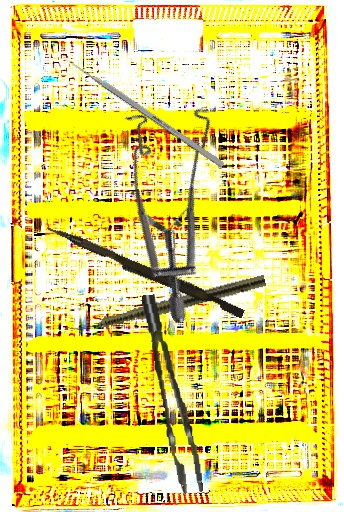Handpiece: (66, 271, 267, 340)
Pusher: (56, 51, 226, 168), (42, 224, 248, 319)
Speculum: (73, 79, 294, 325)
Tissue Forceps: (141, 291, 204, 496)
